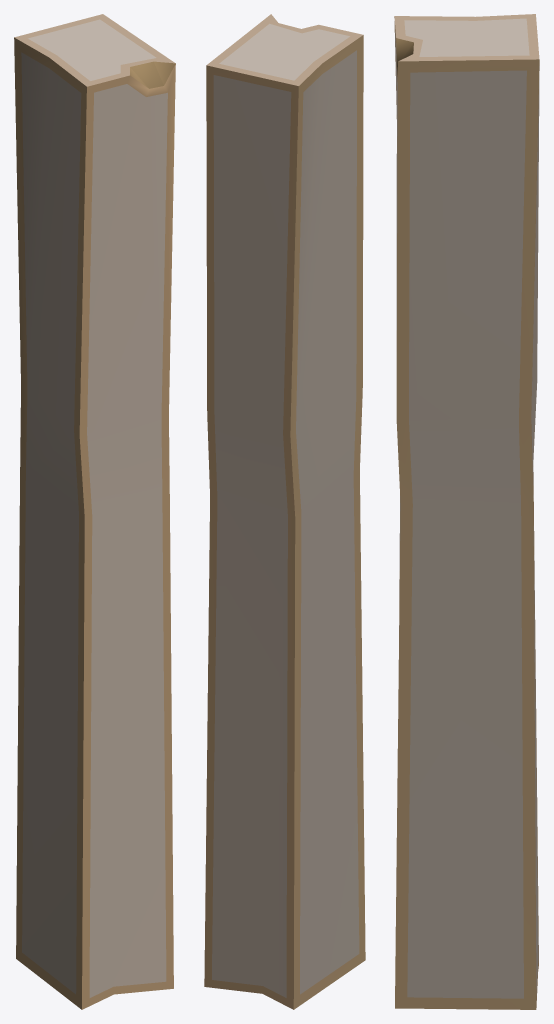
File: MediumBeam.glb
3 views of the same model, side by side, from view 1: azimuth 30°, elevation 25°; view 2: azimuth 150°, elevation 25°; view 3: azimuth 270°, elevation 25° (orthographic). The views are drawn at different scales.
Parts seen in each view (by area): view 1: MediumBeam; view 2: MediumBeam; view 3: MediumBeam.
Part boxes in pixels (x1,y1,x2,y2): MediumBeam: (14,14,175,1009); MediumBeam: (204,14,365,1009); MediumBeam: (394,14,539,1009).
Bounding box in the file's own units: 0.7566 × 7.05 × 0.9769.
